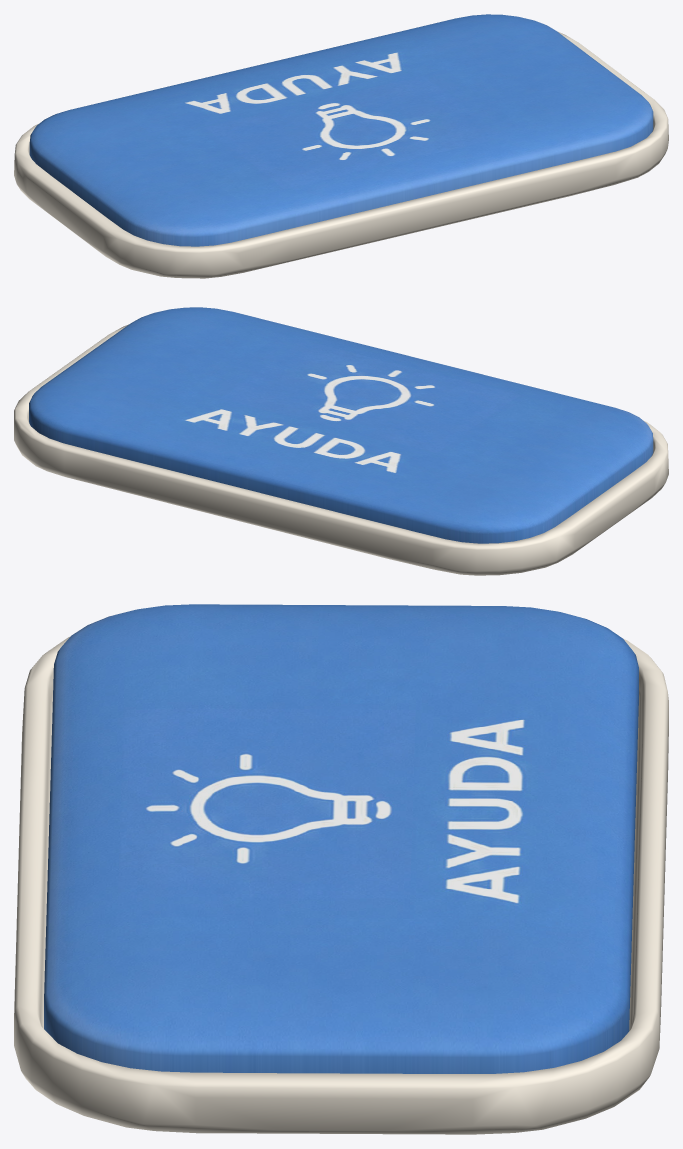
File: pulsador-ayuda.glb
3 renders of one model, top to bottom at view 1: azimuth 30°, elevation 25°; view 2: azimuth 150°, elevation 25°; view 3: azimuth 270°, elevation 25°, orthographic. The views are drawn at different scales.
Parts seen in each view (by area): view 1: ChamferBox003, ChamferBox004; view 2: ChamferBox003, ChamferBox004; view 3: ChamferBox003, ChamferBox004.
Boxes of the visible parts, x1,y1,x2,y2 form: ChamferBox003: (29, 14, 653, 246); ChamferBox004: (14, 32, 668, 278); ChamferBox003: (29, 307, 653, 543); ChamferBox004: (14, 324, 668, 575); ChamferBox003: (44, 604, 638, 1073); ChamferBox004: (14, 636, 668, 1134).
Size of the model in its own units: 0.259 by 0.0228 by 0.1499.
Materials: 2 (1 with a texture image).
